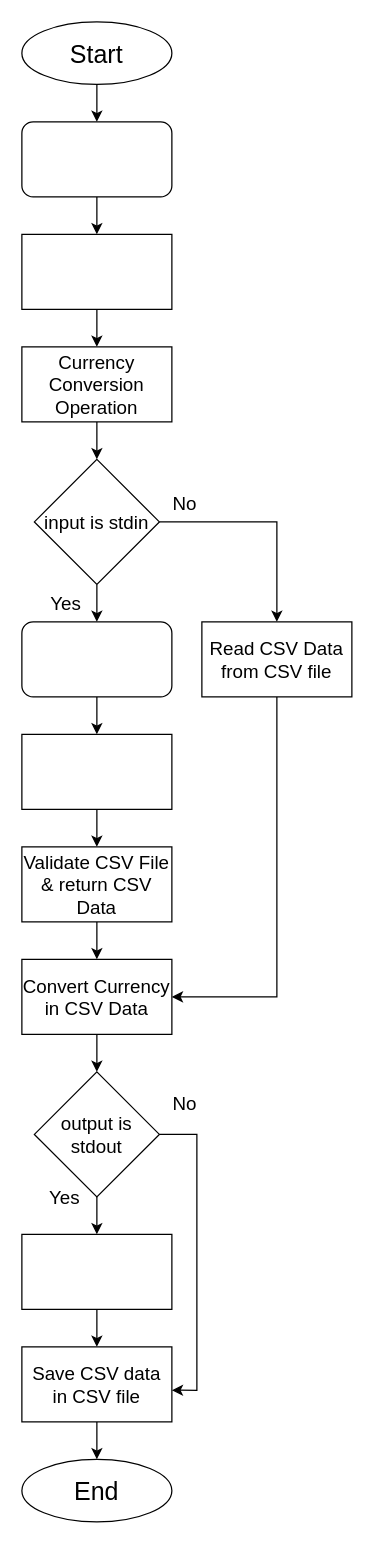
Some shapes in this 374 by 1544 pixel diagram are drawn without their labels. The centre of each missing label's shape, as x and y in pixels:
Command Line Arguments: pixel 96 159
CSV File Data input: pixel 96 659
Print CSV File Data on Console: pixel 96 1271
Validate Command Line Arguments: pixel 96 271
Write data in CSV File: pixel 96 771
